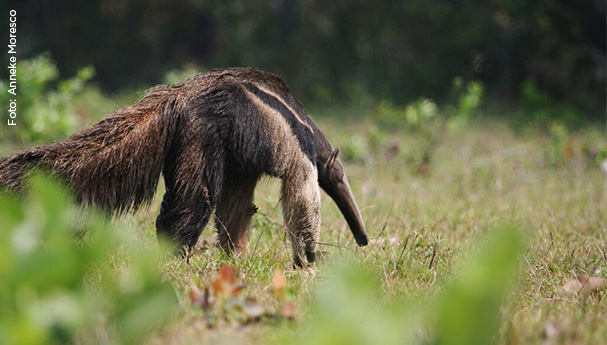TamanduaBandeira: (24, 64, 374, 280)
